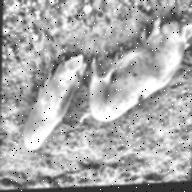boar: (79, 13, 192, 124), (23, 51, 87, 152)
